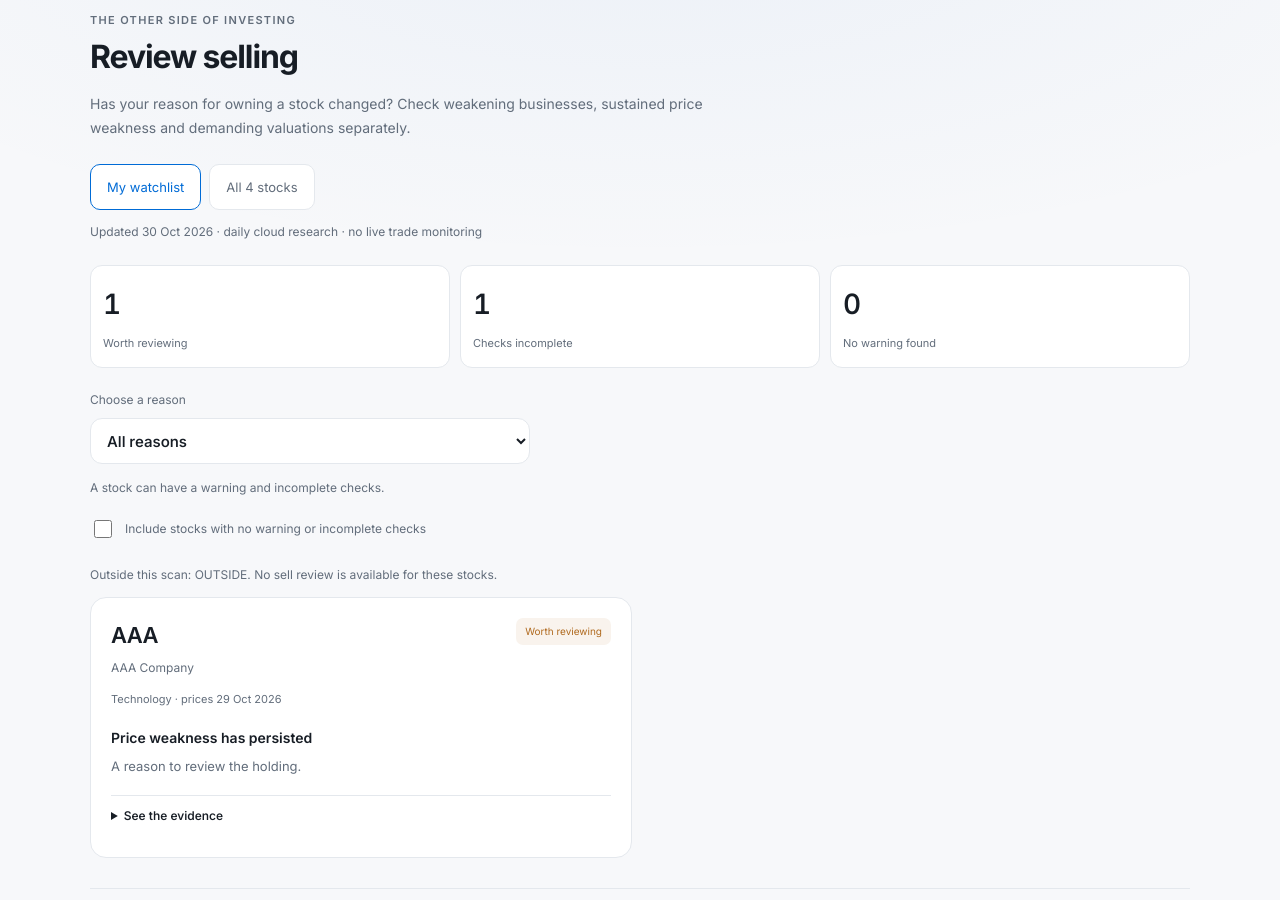
Scenario: selling review › starts with only watched warnings and identifies unknown and unscanned stocks separately
Expected: the element named "AAA sell review" is shown, [90,597,632,858]
Expected: the text "Outside this scan: OUTSIDE" is shown, [90,567,497,582]
Step 1. Click the checkbox → (103, 529), box [94,520,112,538]
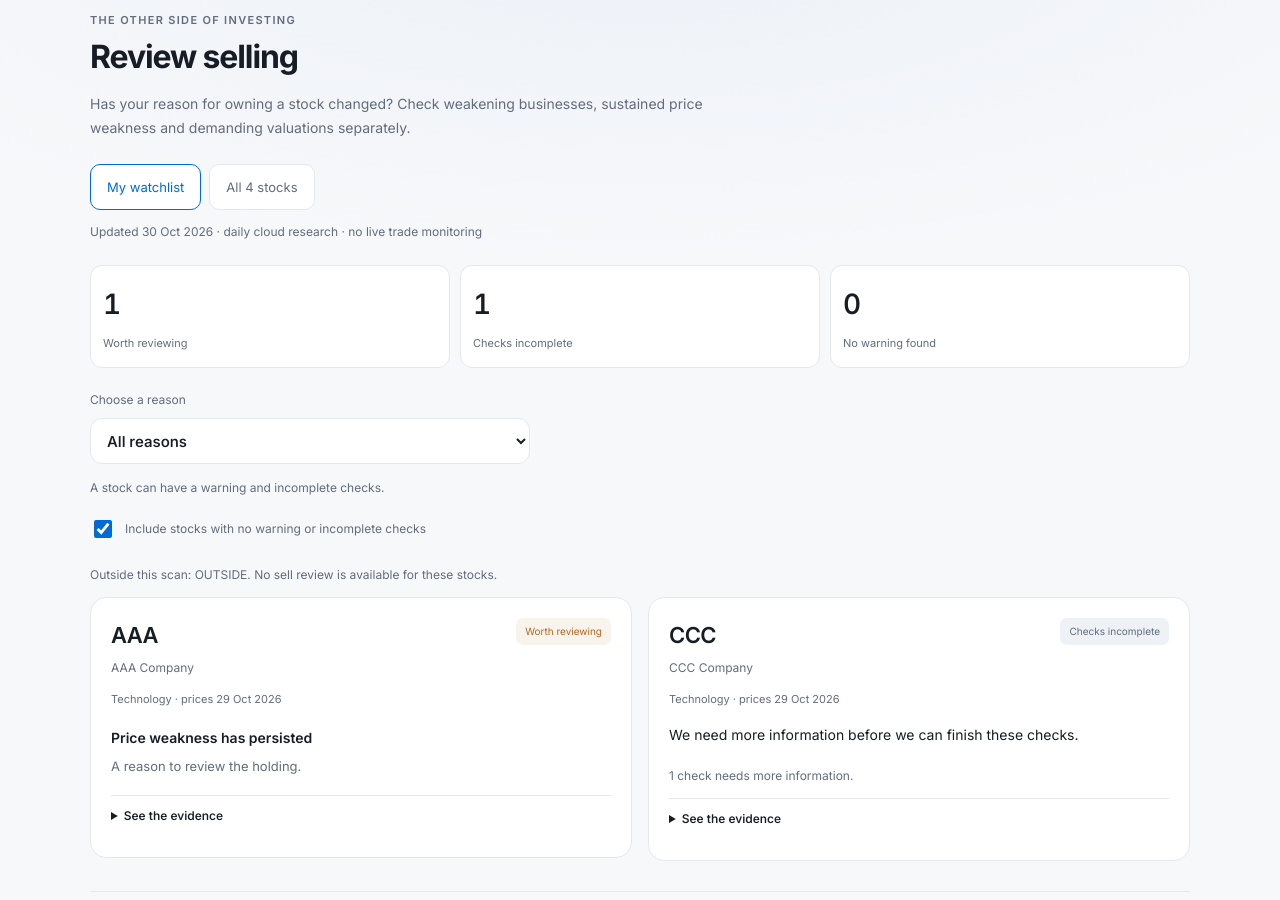
Expected: the 2nd text "Checks incomplete" is shown, [1060,618,1169,645]
